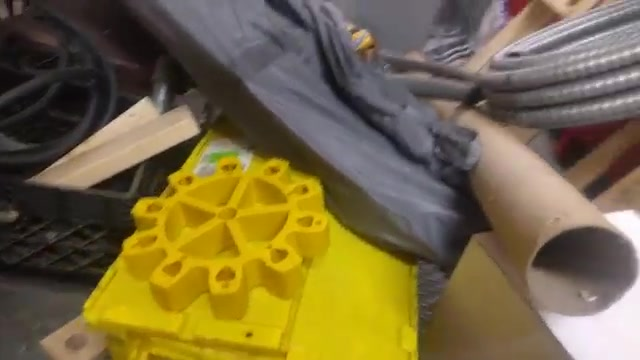gear: (122, 151, 339, 326)
